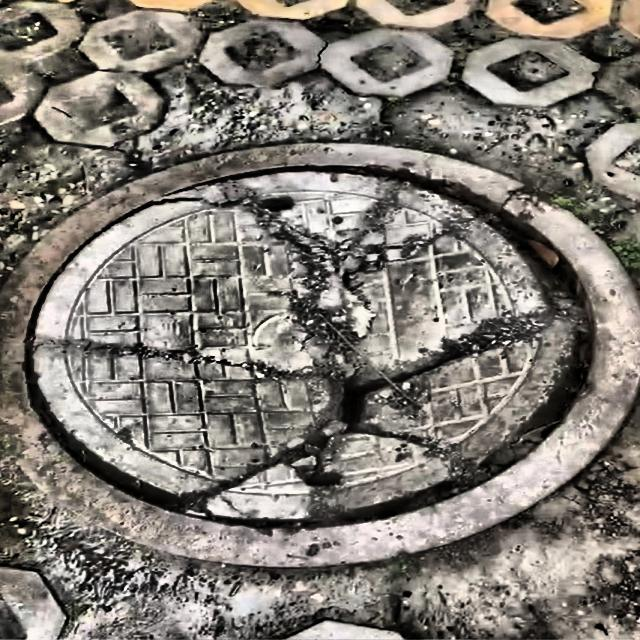open_manhole: (45, 172, 587, 524)
